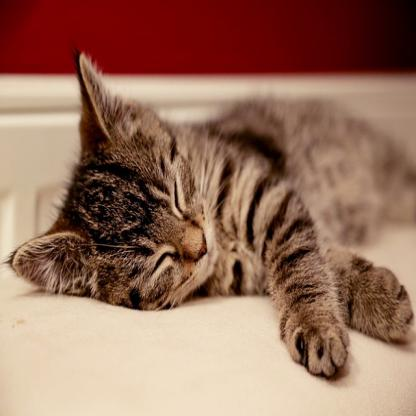cat: (11, 51, 414, 378)
